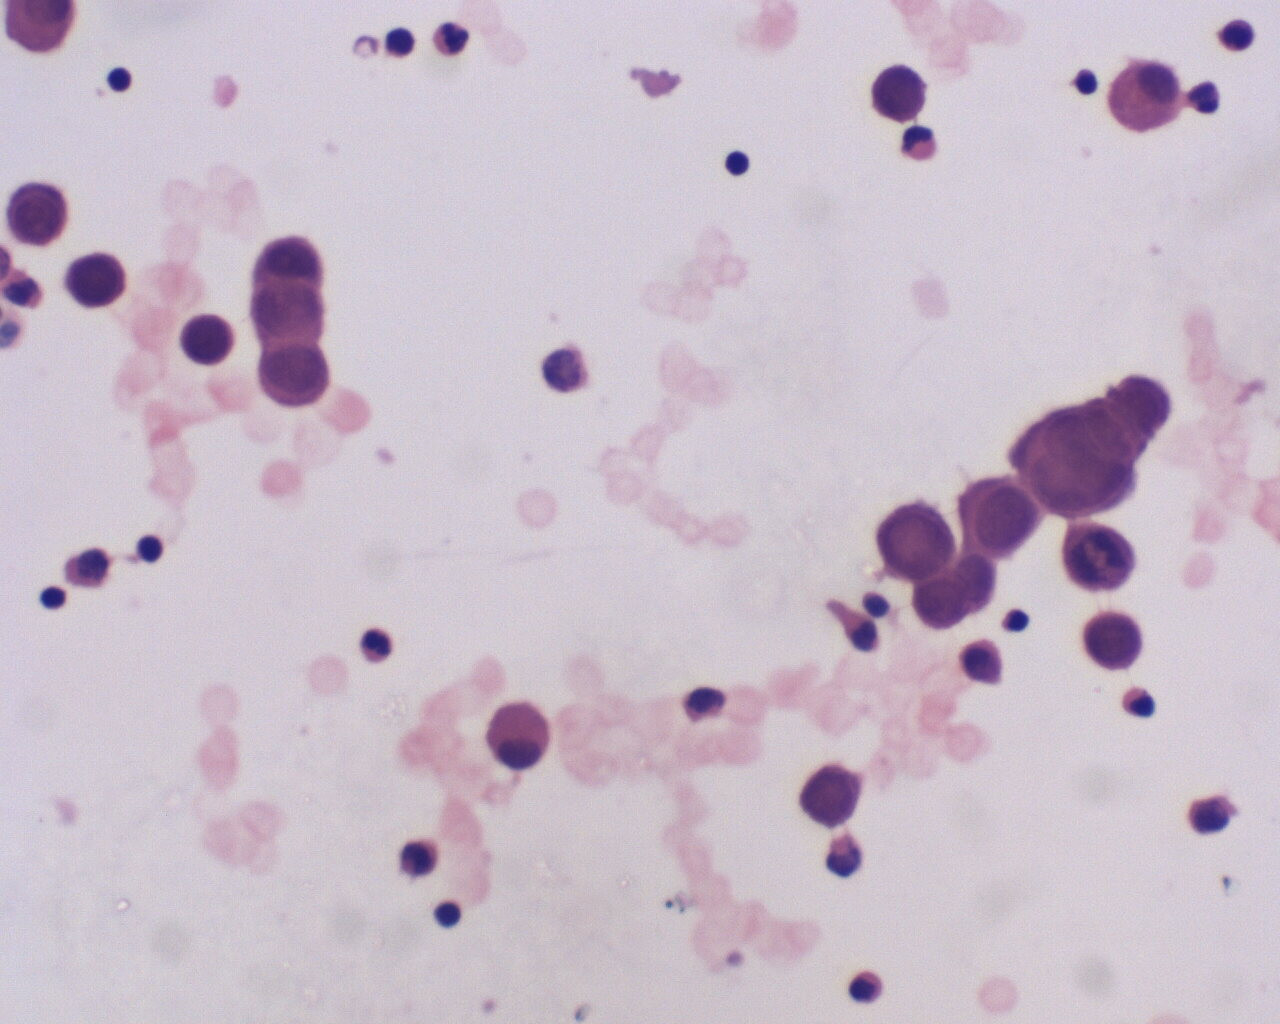ab: (1014, 358, 1173, 516), (960, 472, 1045, 560), (874, 499, 960, 584), (255, 342, 336, 415), (246, 282, 328, 349), (800, 759, 874, 830), (60, 250, 131, 315), (5, 180, 69, 252), (1080, 608, 1148, 674), (174, 306, 237, 373)
lymph: (716, 142, 760, 180), (427, 897, 469, 933), (132, 532, 173, 566), (33, 581, 73, 616), (98, 59, 134, 98)
meso: (478, 696, 562, 776), (1107, 57, 1186, 138)
neutro: (897, 120, 944, 166), (430, 16, 475, 59), (357, 623, 396, 667)
